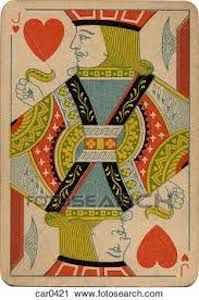JackOfHearts: (1, 1, 198, 289)
